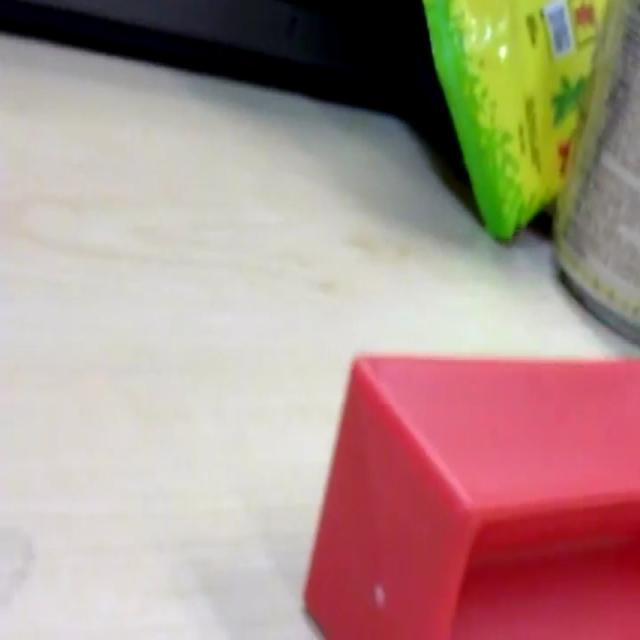red_block: (302, 348, 638, 636)
